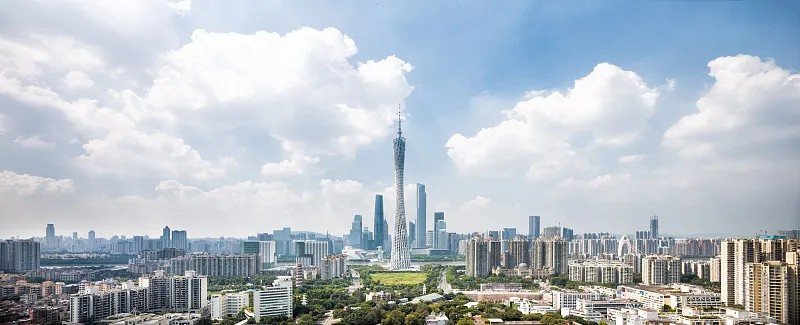Canton: (390, 100, 413, 270)
